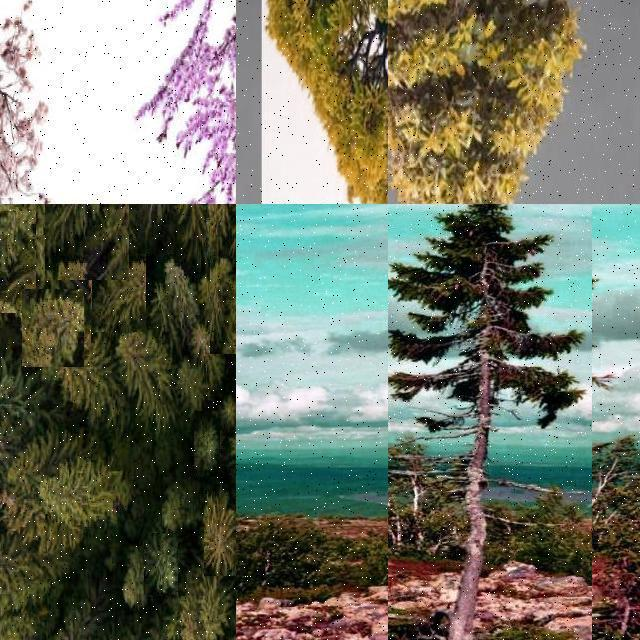tree: (388, 204, 592, 640), (366, 0, 640, 204), (236, 0, 388, 204), (128, 0, 235, 204), (0, 0, 94, 204), (51, 327, 111, 438), (45, 204, 129, 280), (43, 458, 129, 530), (121, 322, 173, 434), (22, 289, 84, 367), (92, 252, 146, 332), (0, 356, 56, 432), (0, 211, 36, 313), (204, 484, 236, 576), (210, 256, 236, 354), (144, 533, 178, 595), (170, 258, 198, 328), (137, 204, 173, 254), (194, 411, 220, 477), (206, 204, 236, 258), (175, 205, 205, 248)
